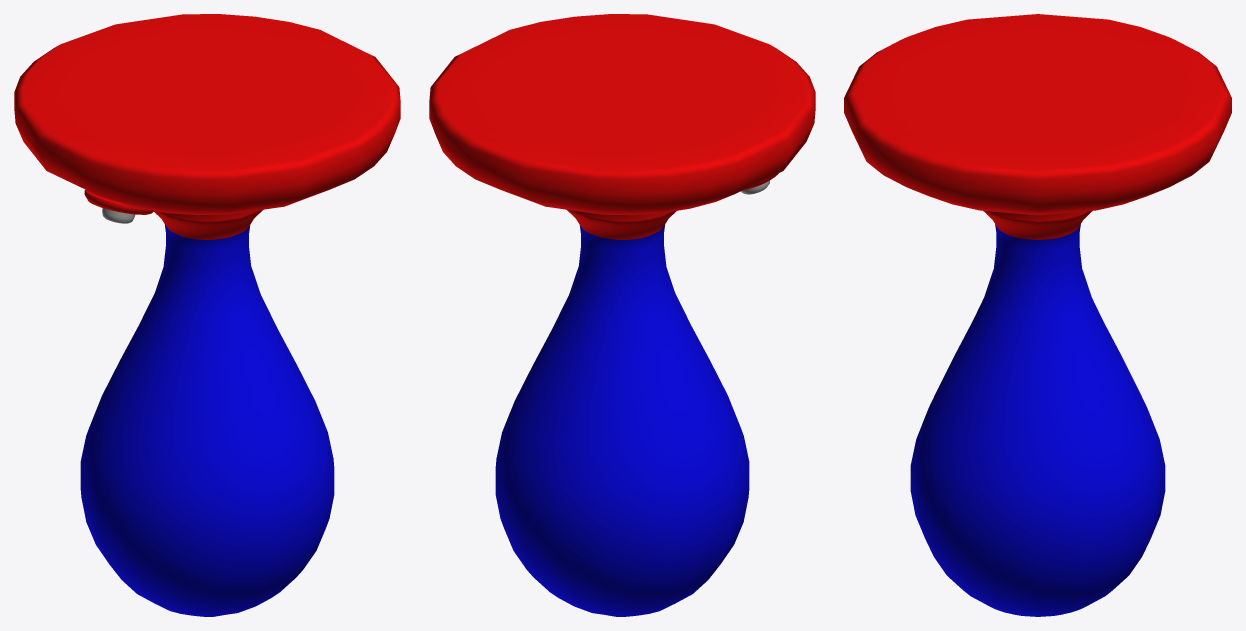
Rendered from ceilingLight.fbx.
The picture shows the model from 3 angles, left to right: view 1: azimuth 30°, elevation 25°; view 2: azimuth 150°, elevation 25°; view 3: azimuth 270°, elevation 25°; orthographic projection.
Parts seen in each view (by area): view 1: prop_ceilingLight; view 2: prop_ceilingLight; view 3: prop_ceilingLight.
Boxes of the visible parts, <box> form: prop_ceilingLight: <box>14,14,400,616</box>; prop_ceilingLight: <box>429,14,815,616</box>; prop_ceilingLight: <box>844,14,1231,616</box>.
Size of the model in its own units: 125 by 183 by 125.
